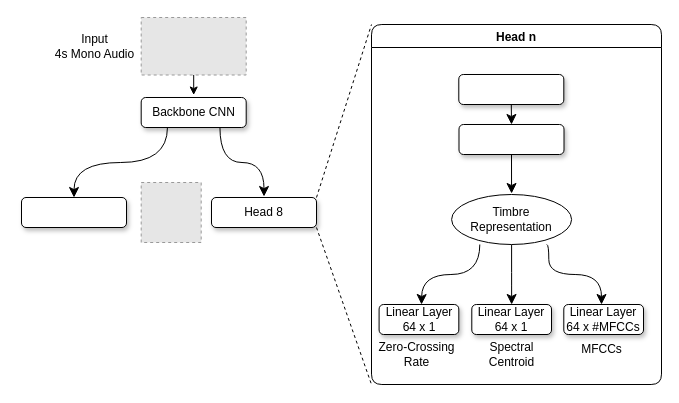
Some shapes in this 679 by 403 pixel diagram are drawn without their labels. Grey dashed boxes stand in for pictures. Here are the shapes that lost their labels. From the top down, the centre of each, then its label:
[512,91]: Linear Layer 512 x 64
[512,141]: L2 Norm
[74,213]: Head 1
